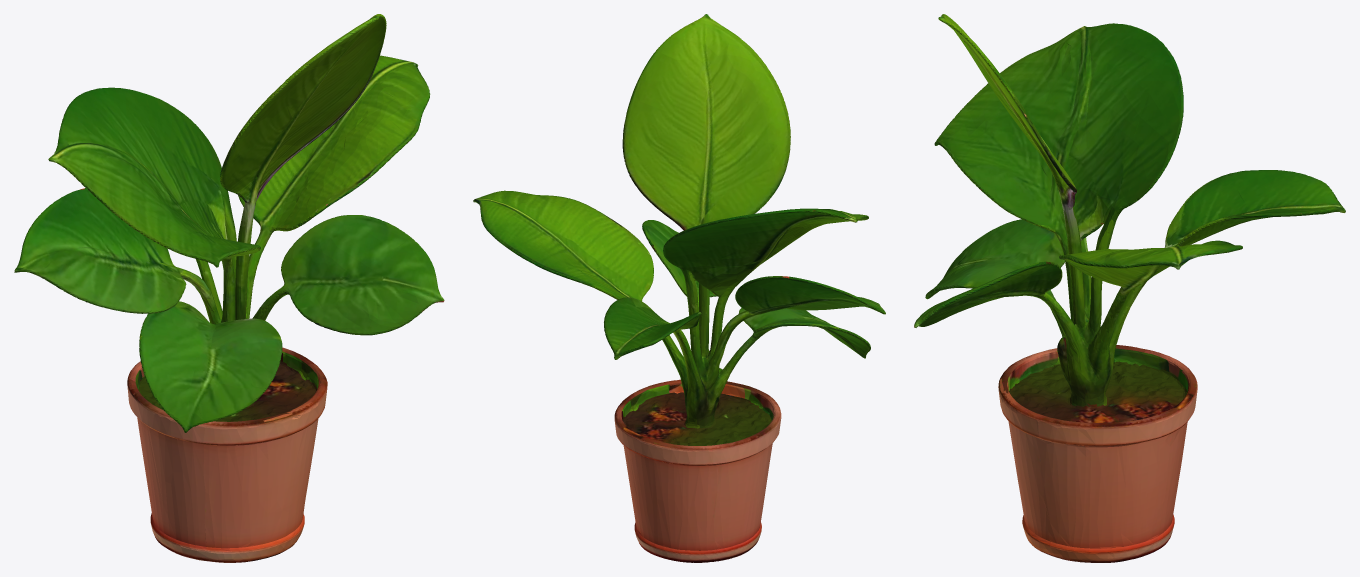
The model's file is biomechanical-growth-planter-generated-2026-04-18T02-38-02-192Z.medium.glb.
3 renders of one model, left to right at view 1: azimuth 30°, elevation 25°; view 2: azimuth 150°, elevation 25°; view 3: azimuth 270°, elevation 25°, orthographic. The views are drawn at different scales.
Visible parts, largest first — view 1: temp_mesh.ply; view 2: temp_mesh.ply; view 3: temp_mesh.ply.
Part boxes in pixels (box(x1,y1,x2,y2)): temp_mesh.ply: box(14, 14, 444, 562); temp_mesh.ply: box(473, 14, 885, 562); temp_mesh.ply: box(914, 14, 1345, 562).
Size of the model in its own units: 1.67 by 1.97 by 1.4.
1 material, 1 textured.
